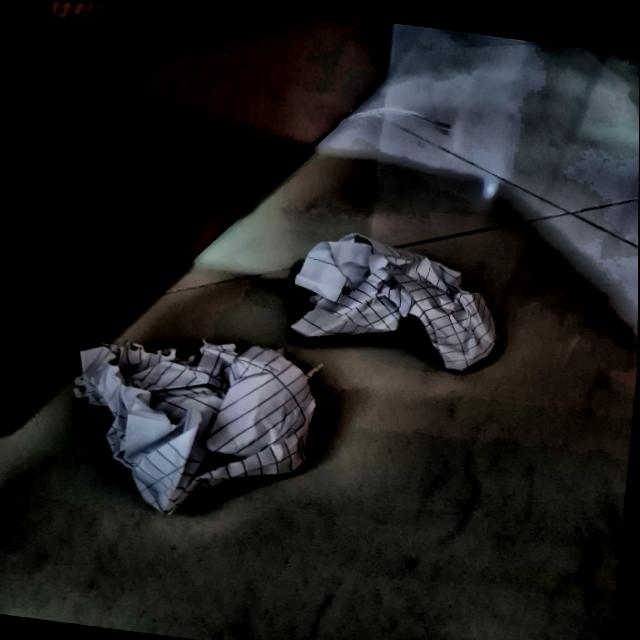Paper: (62, 319, 319, 526), (290, 216, 508, 363)
